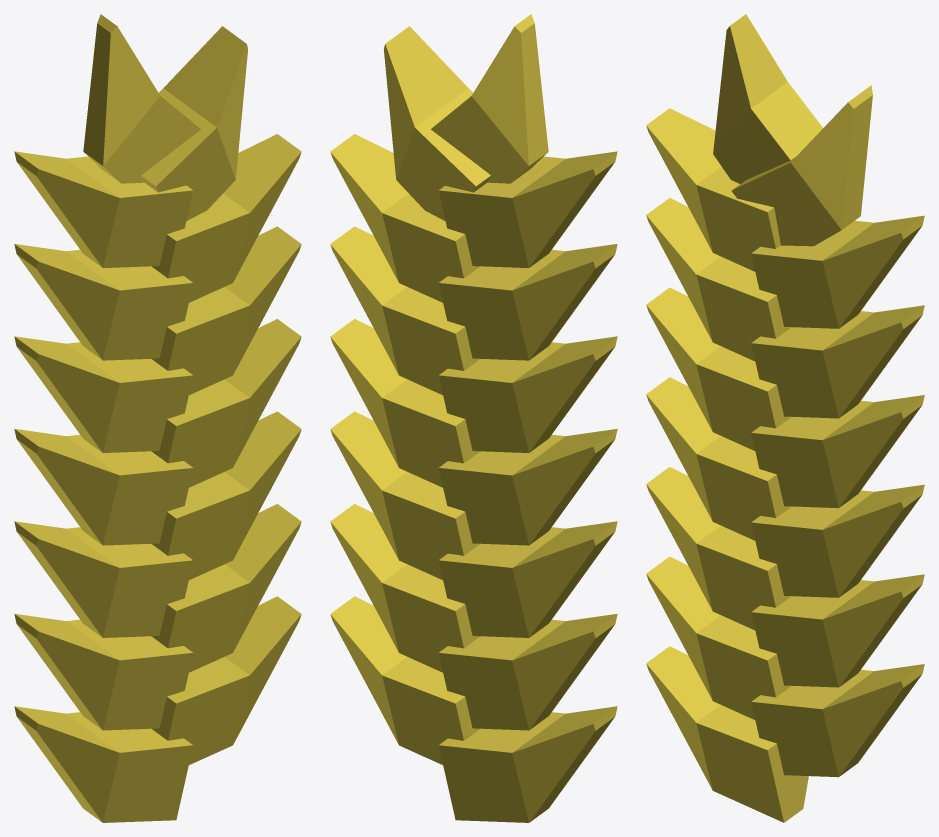
Rendered from WheatGrains.fbx.
3 views of the same model, side by side, from view 1: azimuth 30°, elevation 25°; view 2: azimuth 150°, elevation 25°; view 3: azimuth 330°, elevation 25° (orthographic). The views are drawn at different scales.
Parts seen in each view (by area): view 1: Wheat; view 2: Wheat; view 3: Wheat.
Boxes of the visible parts, x1,y1,x2,y2 form: Wheat: (14, 14, 301, 822); Wheat: (330, 14, 617, 822); Wheat: (646, 14, 924, 822).
Bounding box in the file's own units: 0.7885 × 2.31 × 0.279.
